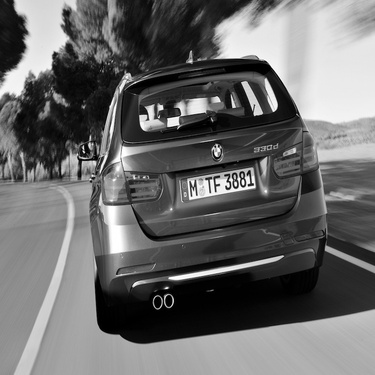car: (64, 48, 336, 339)
